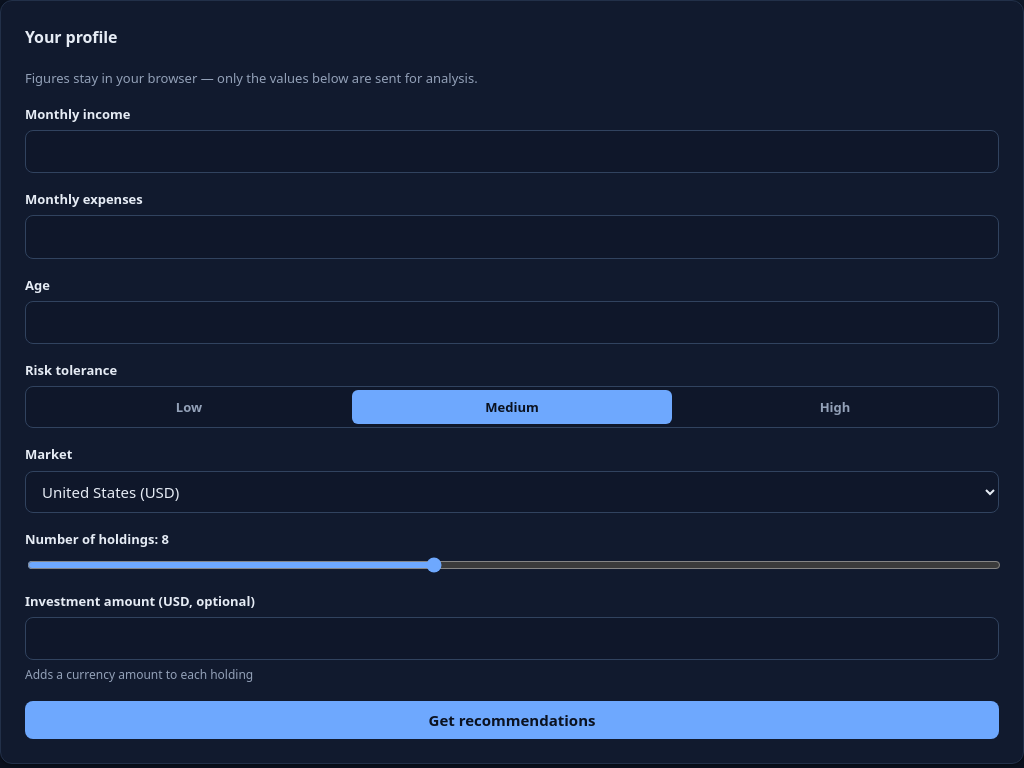
Test: ProfileForm › shows inline errors and does not submit invalid input
This screenshot has width=1024, height=768.
Click the button "Get recommendations" at x=512, y=720, box x1=25 y1=701 x2=999 y2=739
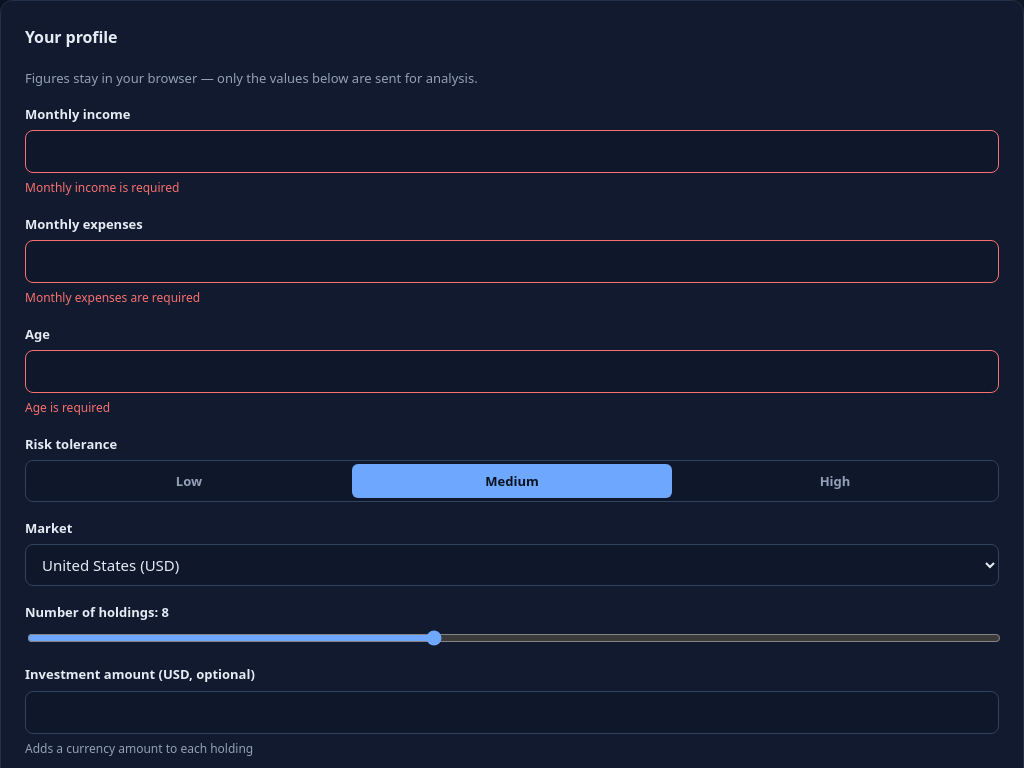
Now the text "Monthly income is required" is shown, box x1=25 y1=179 x2=180 y2=196
Now the text "Age is required" is shown, box x1=25 y1=399 x2=110 y2=416
